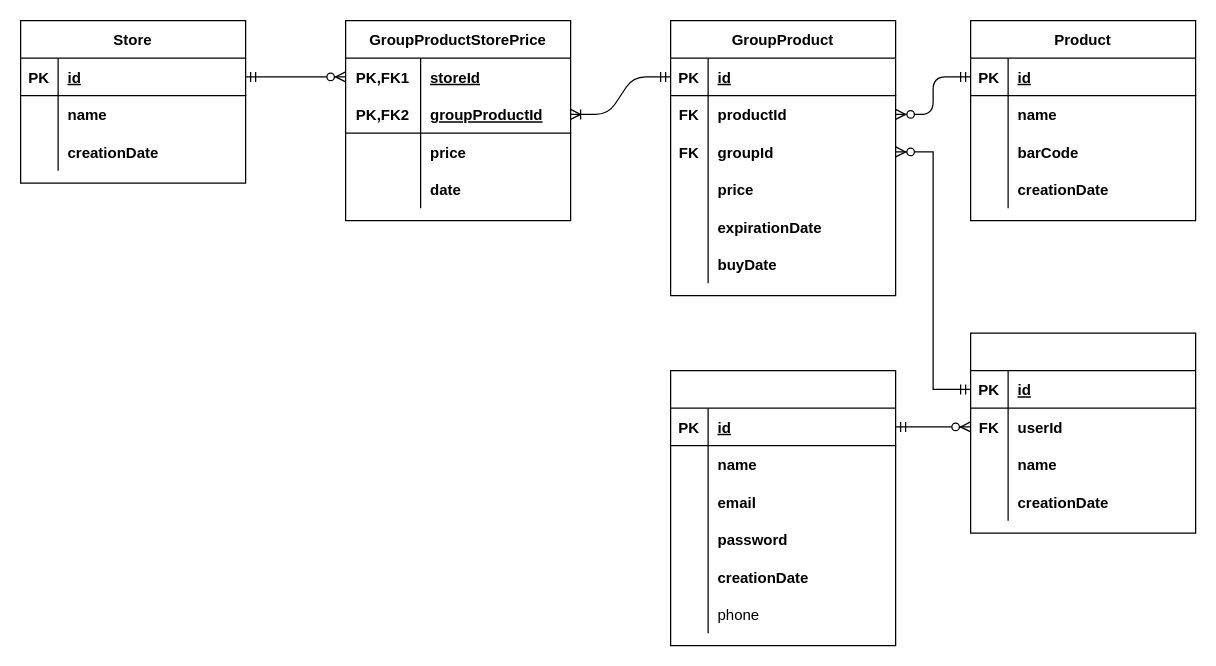
Some shapes in this 1216 by 666 pixel diagram are drawn without their labels. Here are the shapes that lost their labels. From the top down, the box of each, then its label:
(969, 332, 1196, 533): ProductGroup
(669, 369, 896, 646): User
